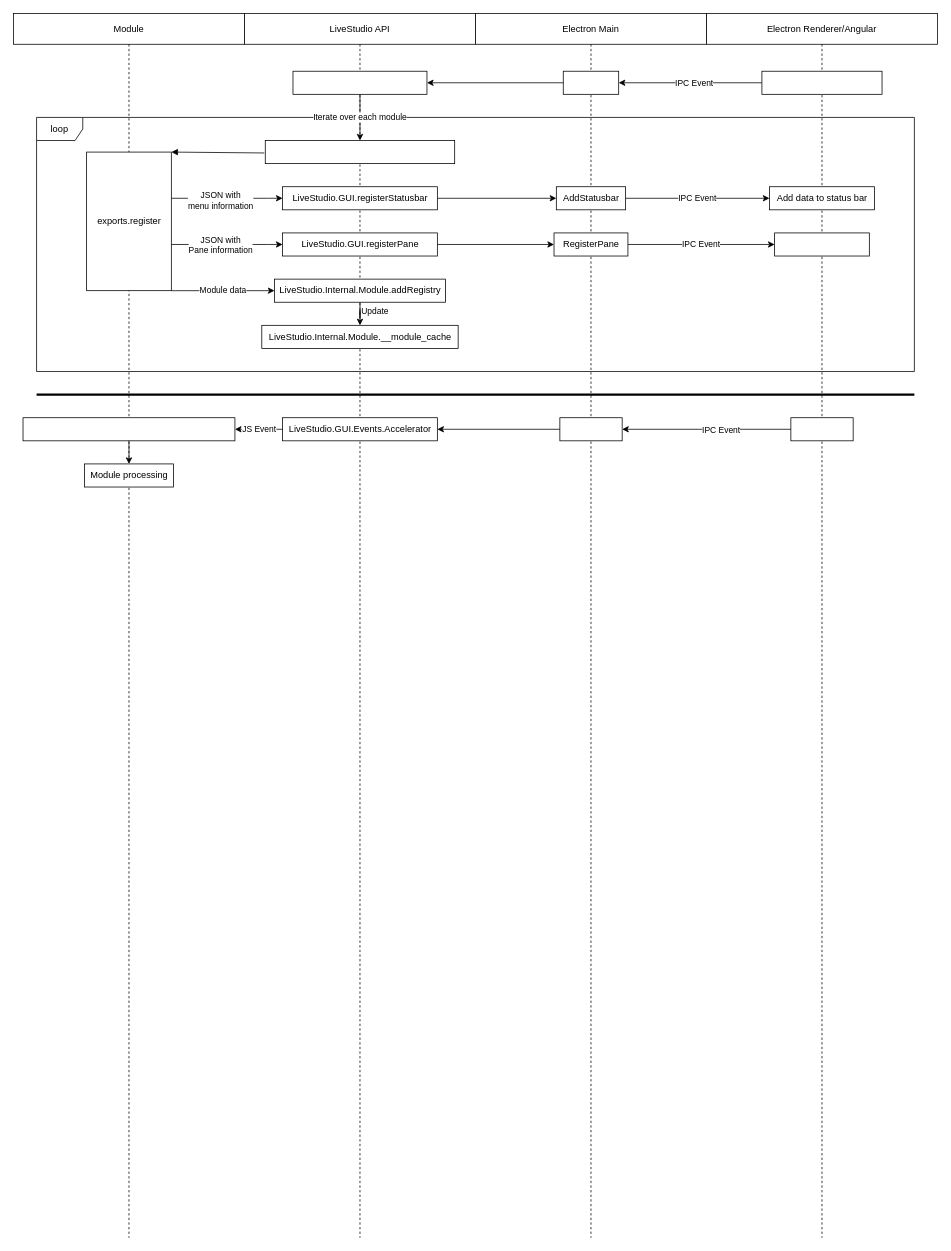
Some shapes in this 951 by 1251 pixel diagram are drawn without their labels. The centre of each missing label's shape, as x and y in pixels:
Accelerator: (590,429)
Accelerator Activated: (821,429)
Angular finishes loading: (821,82)
Create PaneKit Pane and hide: (821,244)
LiveStudio.Core.initModules: (359,82)
LiveStudio.GUI.Events.Accelerator.on("activate"): (128,429)
LiveStudio.Internal.Module.registerModule: (359,152)
PageLoad: (590,82)
